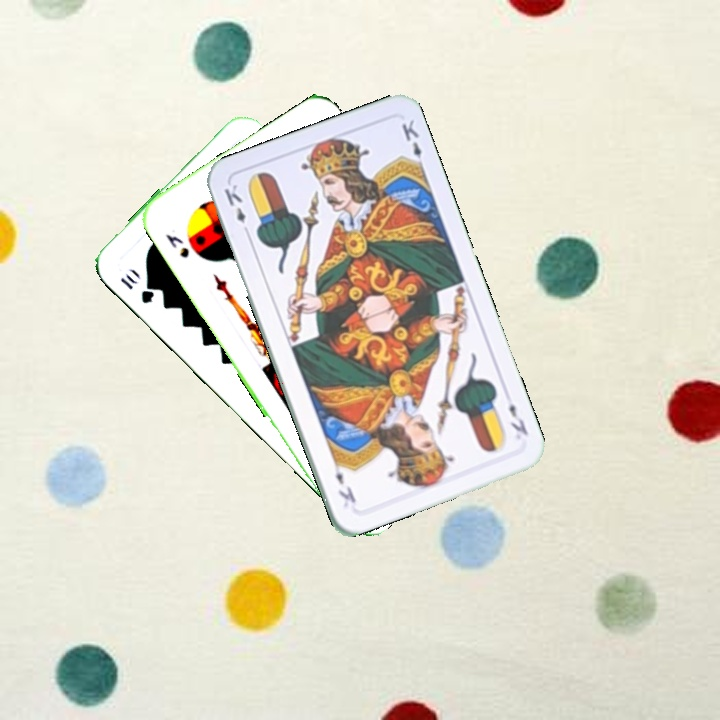EK: (220, 180, 253, 239), (503, 388, 531, 438)
G10: (116, 270, 157, 306)
SK: (161, 229, 192, 261)
